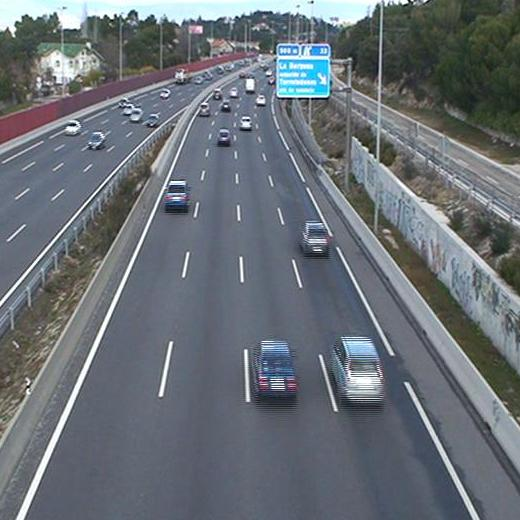car: (331, 337, 387, 404), (252, 340, 300, 398), (300, 221, 331, 254), (163, 179, 191, 207), (215, 129, 231, 143), (198, 101, 210, 116), (239, 115, 252, 128)
van: (244, 77, 256, 91)
